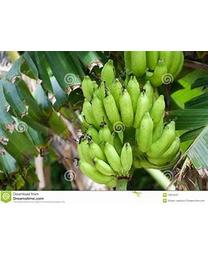banana: (76, 61, 181, 188)
